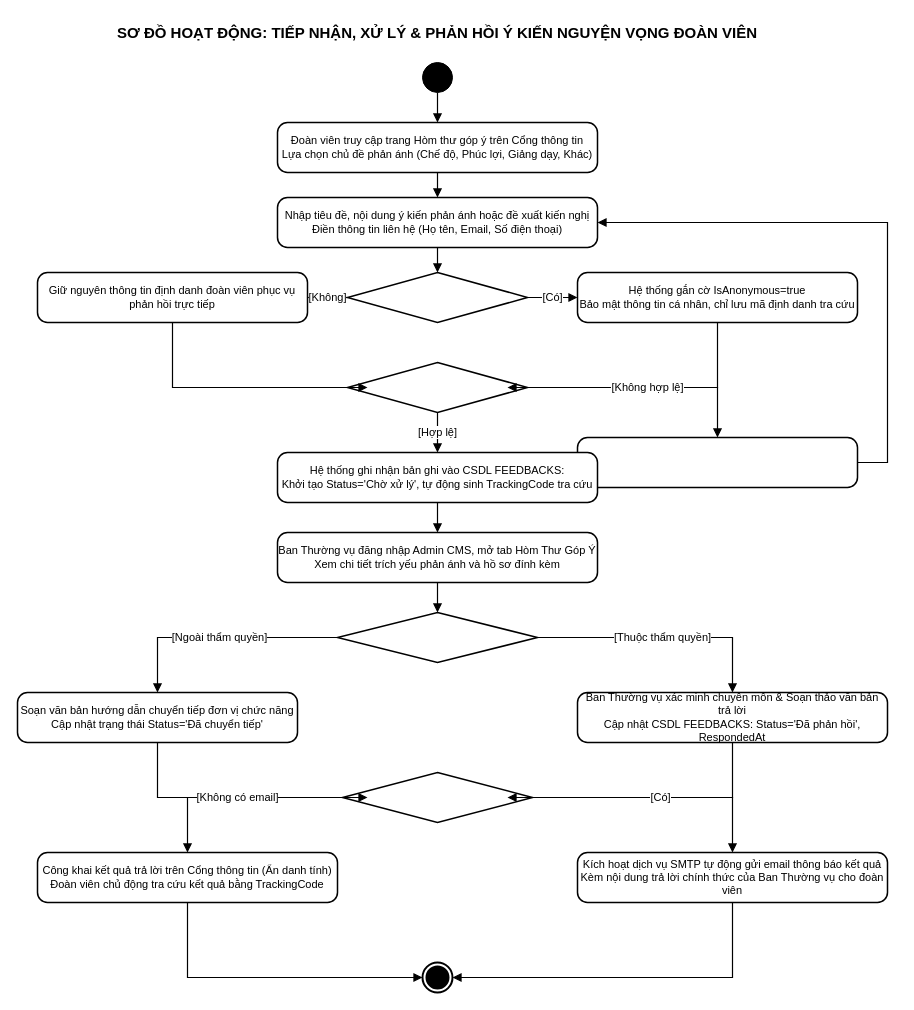
This 914x1010 diagram has some shape labels left out. Each missing label, with the centre of its shape:
"Có cung cấp Email liên hệ?" belongs at [437,797].
"Dữ liệu đầu vào hợp lệ?" belongs at [437,387].
"Hiển thị thông báo lỗi nhập liệu (Tiêu đề/Nội dung trống hoặc định dạng sai)" belongs at [717,462].
"Thuộc thẩm quyền Công đoàn?" belongs at [437,637].
"Tùy chọn gửi ẩn danh?" belongs at [437,297].
